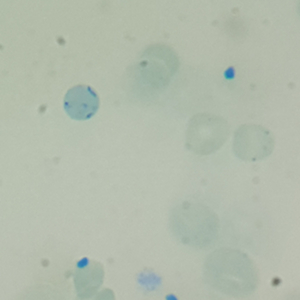aggregate reticulocyte: (62, 83, 100, 122)
erythrocyte: (200, 246, 258, 297), (167, 200, 222, 248), (182, 111, 230, 157), (139, 42, 179, 85), (70, 257, 106, 300)
punctate reticulocyte: (231, 122, 275, 164)
